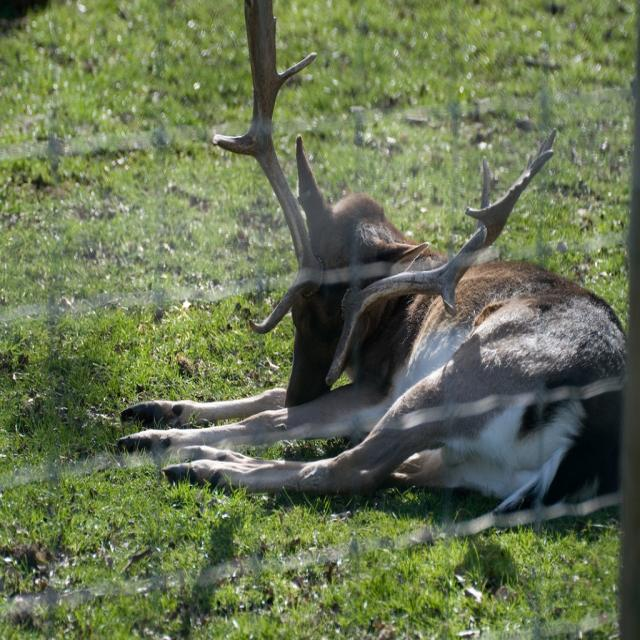Deer: (113, 0, 629, 530)
